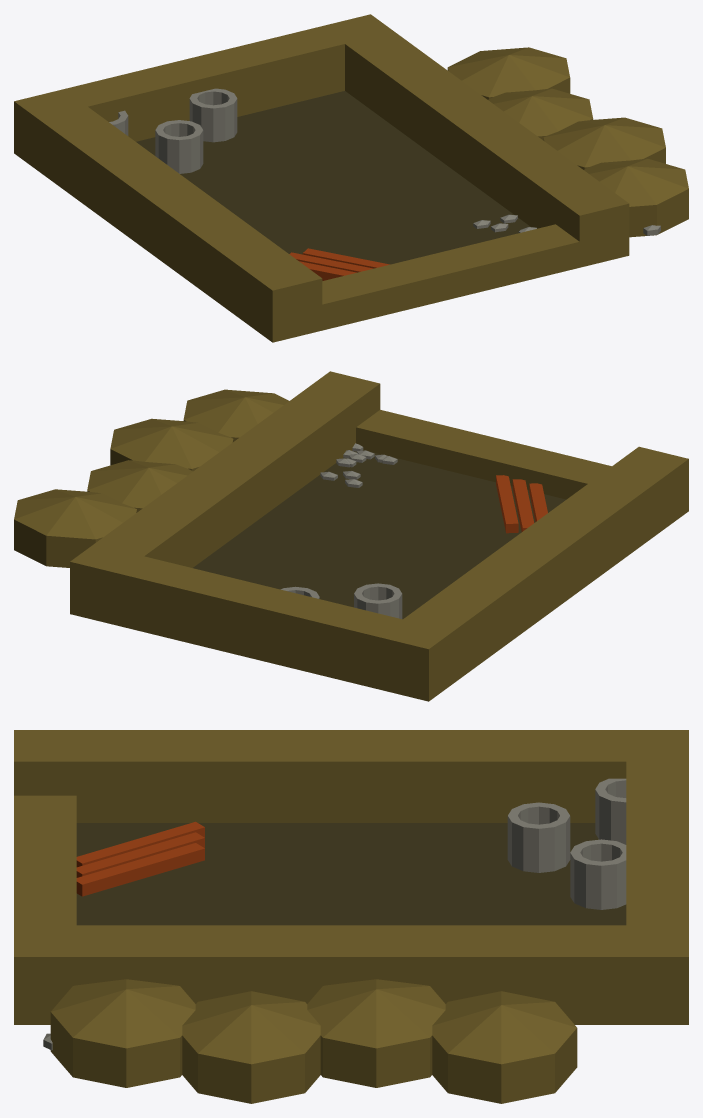
Rendered from construction2.glb.
3 views of the same model, one above another, from view 1: azimuth 30°, elevation 25°; view 2: azimuth 150°, elevation 25°; view 3: azimuth 270°, elevation 25° (orthographic). The views are drawn at different scales.
Parts seen in each view (by area): view 1: construction2; view 2: construction2; view 3: construction2.
Boxes of the visible parts, x1=… form: construction2: x1=14, y1=14, x2=688, y2=342; construction2: x1=14, y1=371, x2=688, y2=701; construction2: x1=14, y1=730, x2=688, y2=1103.
Size of the model in its own units: 57.93 by 6 by 54.
